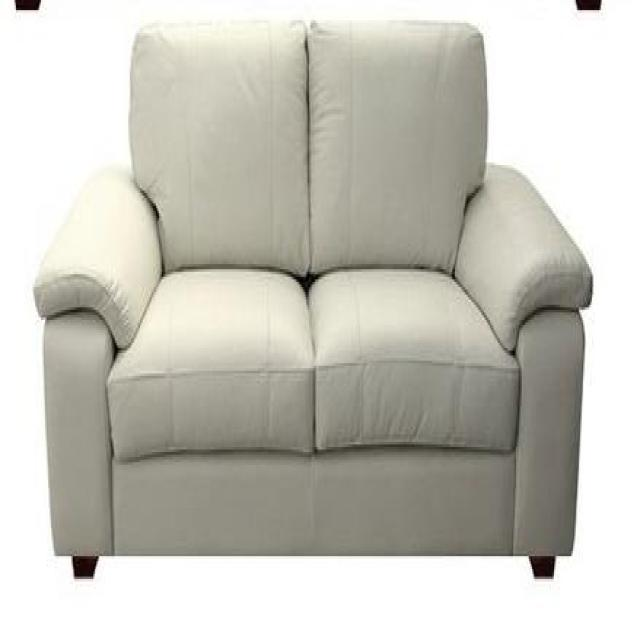sofa: (31, 21, 594, 588)
